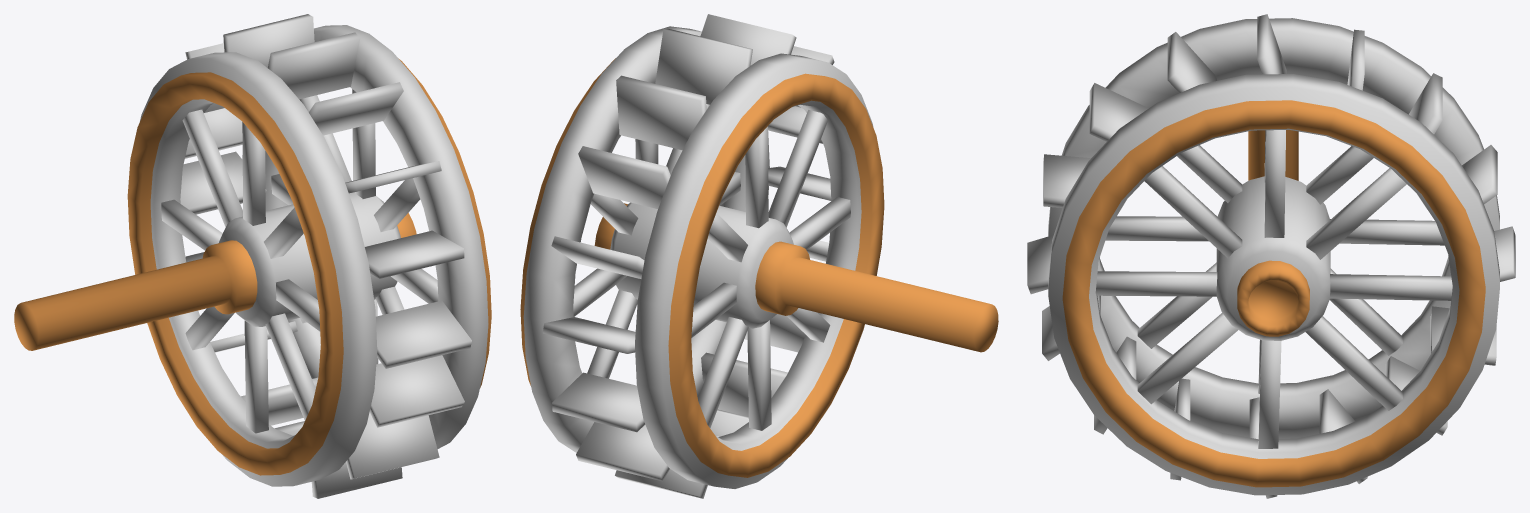
File: WaterWheel.fbx
3 views of the same model, side by side, from view 1: azimuth 30°, elevation 25°; view 2: azimuth 150°, elevation 25°; view 3: azimuth 270°, elevation 25° (orthographic). The views are drawn at different scales.
Parts seen in each view (by area): view 1: Cylinder.056; view 2: Cylinder.056; view 3: Cylinder.056.
Boxes of the visible parts, <box> form: Cylinder.056: <box>14,14,491,498</box>; Cylinder.056: <box>520,14,998,498</box>; Cylinder.056: <box>1027,14,1515,498</box>.
Bounding box in the file's own units: 1676 × 1844 × 1844.
